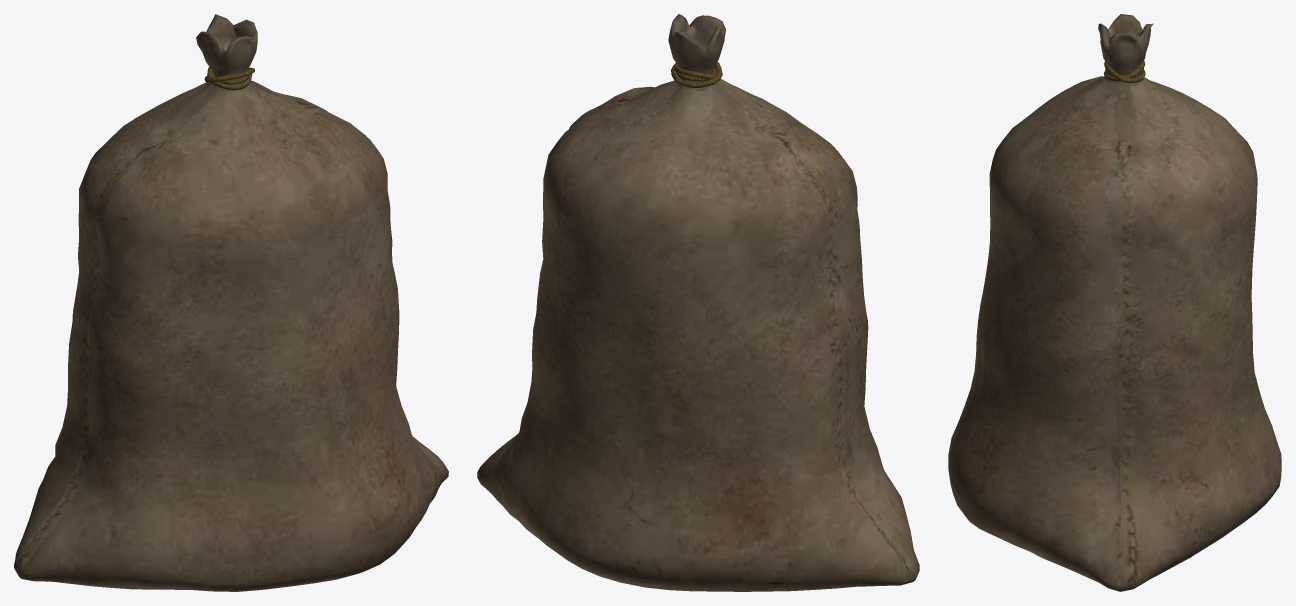
Rendered from item-sack.glb.
The picture shows the model from 3 angles, left to right: view 1: azimuth 30°, elevation 25°; view 2: azimuth 150°, elevation 25°; view 3: azimuth 270°, elevation 25°; orthographic projection. The views are drawn at different scales.
Visible parts, largest first — view 1: Closed_Burlap_Sack1; view 2: Closed_Burlap_Sack1; view 3: Closed_Burlap_Sack1.
Boxes of the visible parts, box(x1,y1,x2,y2) form: Closed_Burlap_Sack1: box(14, 14, 448, 591); Closed_Burlap_Sack1: box(477, 14, 919, 591); Closed_Burlap_Sack1: box(948, 14, 1281, 591).
Size of the model in its own units: 0.445 by 0.5082 by 0.3199.
Materials: 1 (1 with a texture image).
